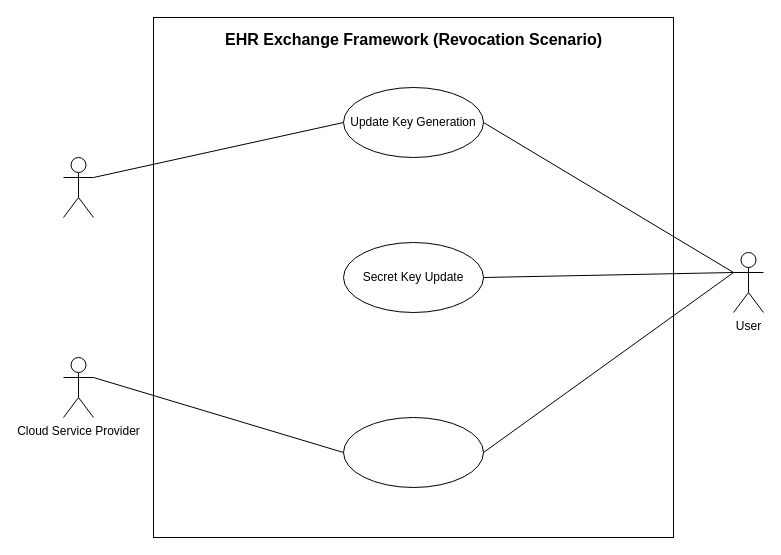
The diagram is 781 pixels wide and 555 high, and some of its shapes have lost their labels. The centre of each missing label's shape, as x and y in pixels:
Attribute Authority: pixel 78 187
Ciphertext Update: pixel 413 452
